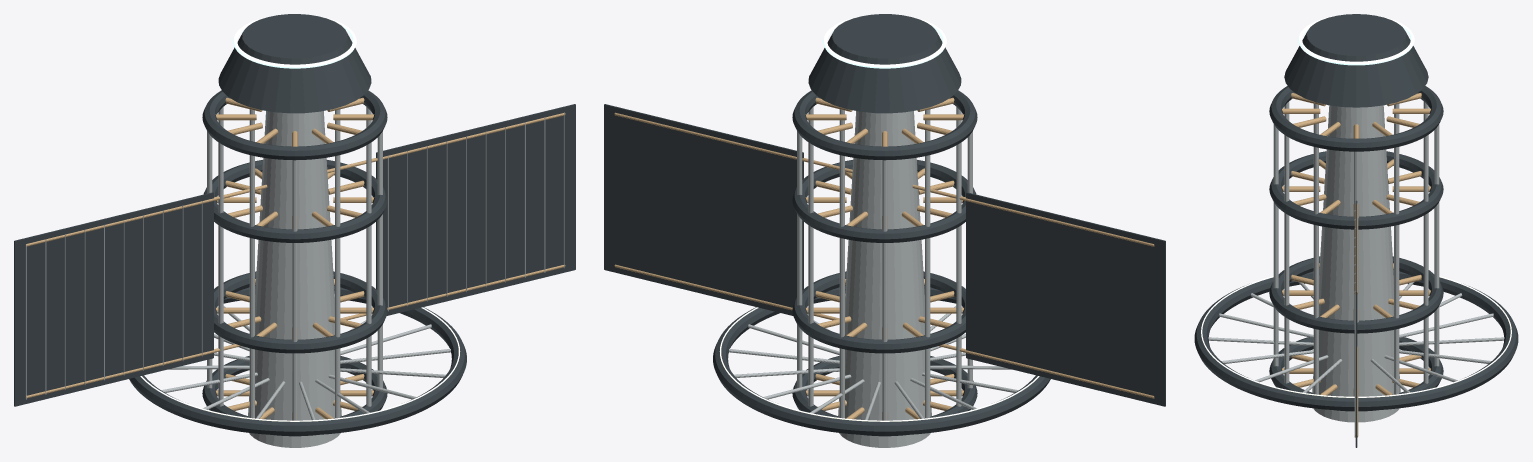
Rendered from A-exterior-east.glb.
3 renders of one model, left to right at view 1: azimuth 30°, elevation 25°; view 2: azimuth 150°, elevation 25°; view 3: azimuth 270°, elevation 25°, orthographic. The views are drawn at different scales.
Parts seen in each view (by area): view 1: A-exterior-east-basalt, A-exterior-east-metal, A-exterior-east-bronze, A-exterior-east-cool-luminous, A-exterior-east-luminous; view 2: A-exterior-east-basalt, A-exterior-east-metal, A-exterior-east-bronze, A-exterior-east-cool-luminous, A-exterior-east-luminous; view 3: A-exterior-east-basalt, A-exterior-east-metal, A-exterior-east-bronze, A-exterior-east-luminous, A-exterior-east-cool-luminous.
Boxes of the visible parts, left/top/right/bottom form: A-exterior-east-basalt: left=14, top=14, right=575, bottom=436; A-exterior-east-metal: left=25, top=107, right=564, bottom=447; A-exterior-east-bronze: left=26, top=97, right=565, bottom=420; A-exterior-east-cool-luminous: left=233, top=15, right=356, bottom=68; A-exterior-east-luminous: left=140, top=307, right=460, bottom=421; A-exterior-east-basalt: left=604, top=14, right=1165, bottom=436; A-exterior-east-metal: left=729, top=107, right=1018, bottom=447; A-exterior-east-bronze: left=614, top=97, right=1154, bottom=420; A-exterior-east-cool-luminous: left=823, top=15, right=946, bottom=68; A-exterior-east-luminous: left=719, top=307, right=1039, bottom=421; A-exterior-east-basalt: left=1194, top=14, right=1518, bottom=447; A-exterior-east-metal: left=1208, top=101, right=1504, bottom=437; A-exterior-east-bronze: left=1282, top=93, right=1430, bottom=437; A-exterior-east-luminous: left=1201, top=276, right=1511, bottom=397; A-exterior-east-cool-luminous: left=1298, top=16, right=1414, bottom=65.
Bounding box in the file's own units: 42.56 × 28.37 × 22.6.
